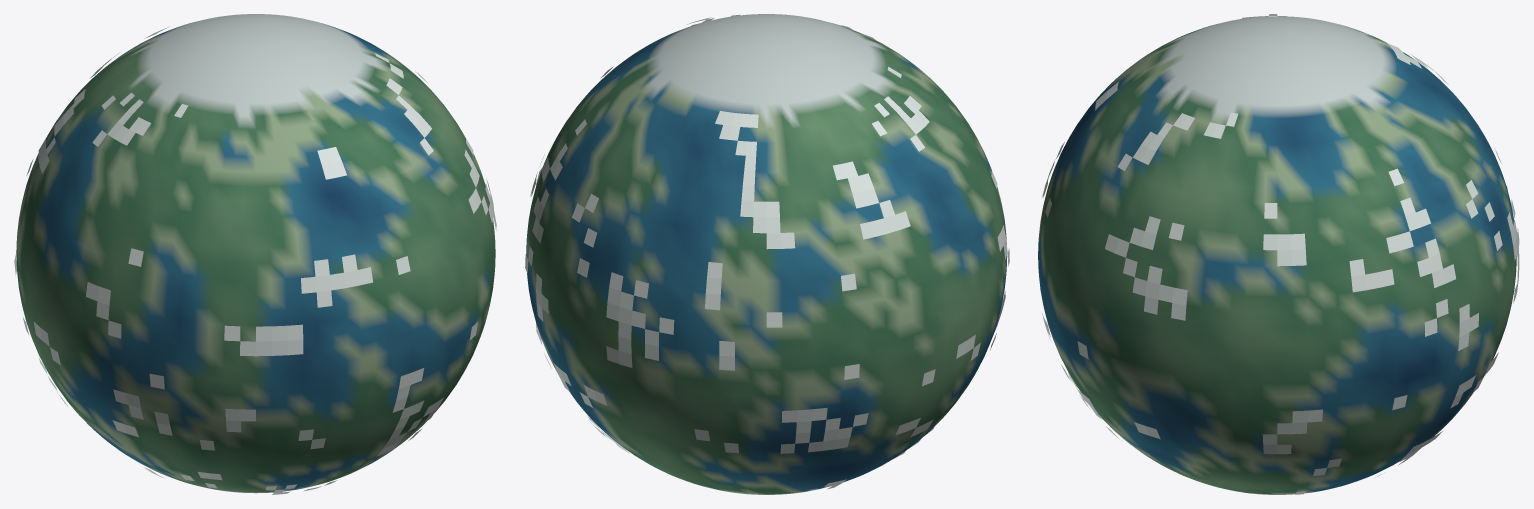
The model's file is world_ocean.glb.
3 views of the same model, side by side, from view 1: azimuth 30°, elevation 25°; view 2: azimuth 150°, elevation 25°; view 3: azimuth 270°, elevation 25° (orthographic).
Visible parts, largest first — view 1: Geometry_world_ocean; view 2: Geometry_world_ocean; view 3: Geometry_world_ocean.
Boxes of the visible parts, left/top/right/bottom form: Geometry_world_ocean: left=14, top=14, right=496, bottom=494; Geometry_world_ocean: left=525, top=14, right=1009, bottom=494; Geometry_world_ocean: left=1038, top=14, right=1519, bottom=494.
Size of the model in its own units: 2.01 by 2 by 2.01.
